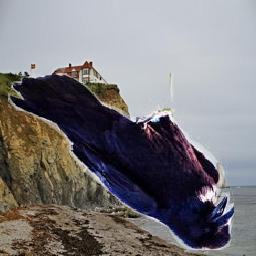Crow: (8, 74, 234, 251)
